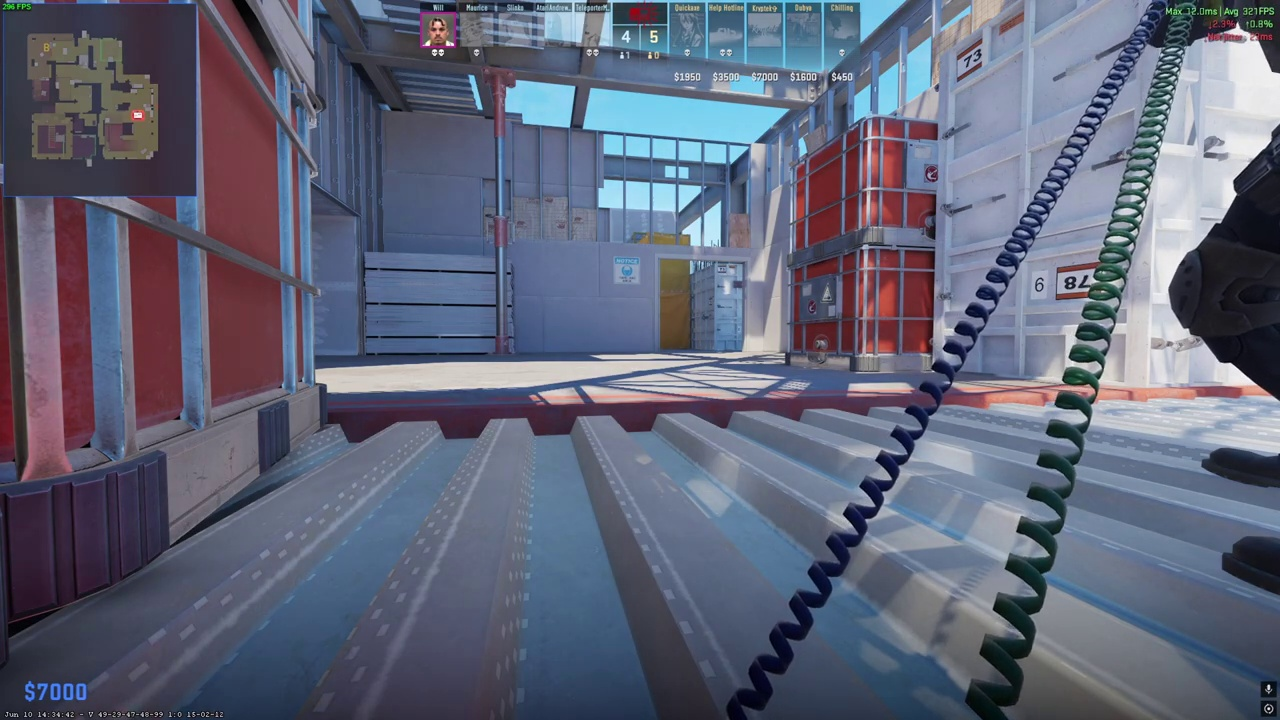CT: (1142, 0, 1280, 595)
